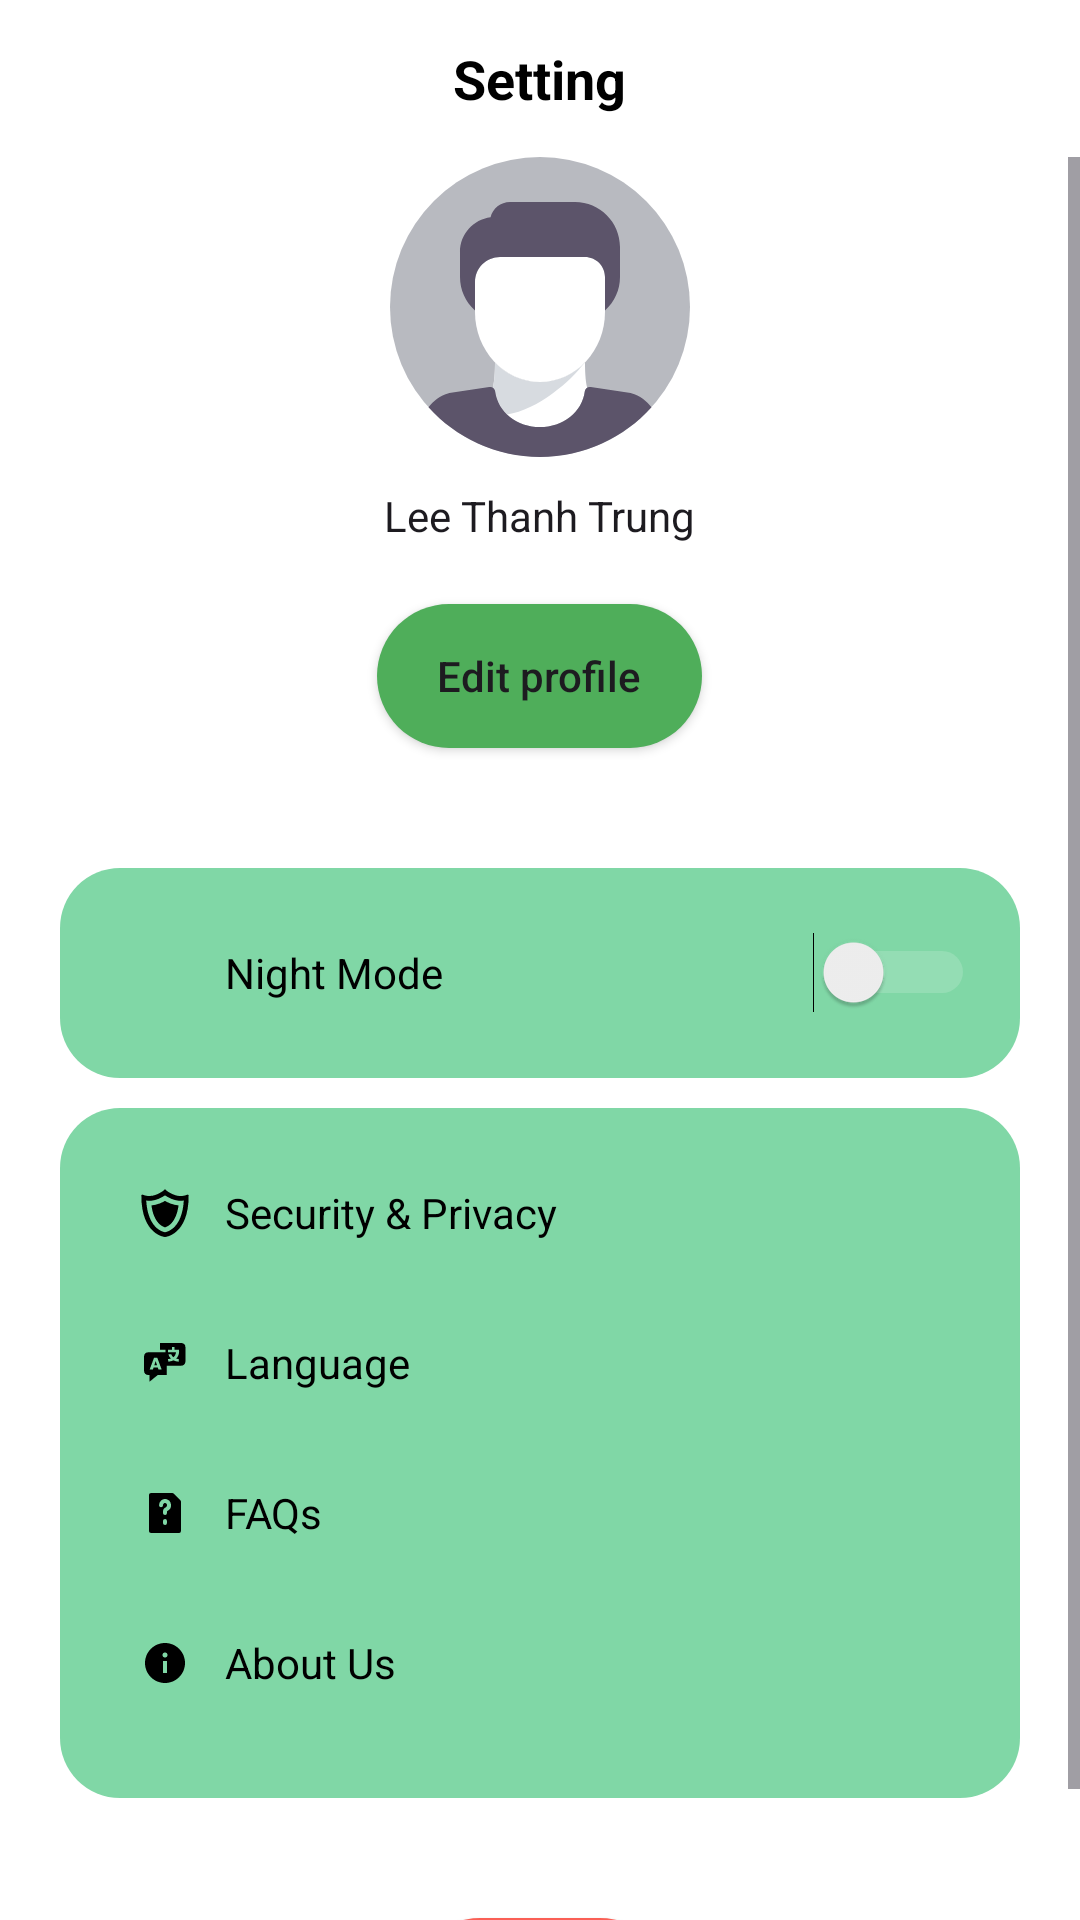

Where icons sit on this 1080 x 1920 app screen, as (x1=x1, y1=y1, x2=x2, y2=y2):
faq: (x1=149, y1=1493, x2=181, y2=1533)
